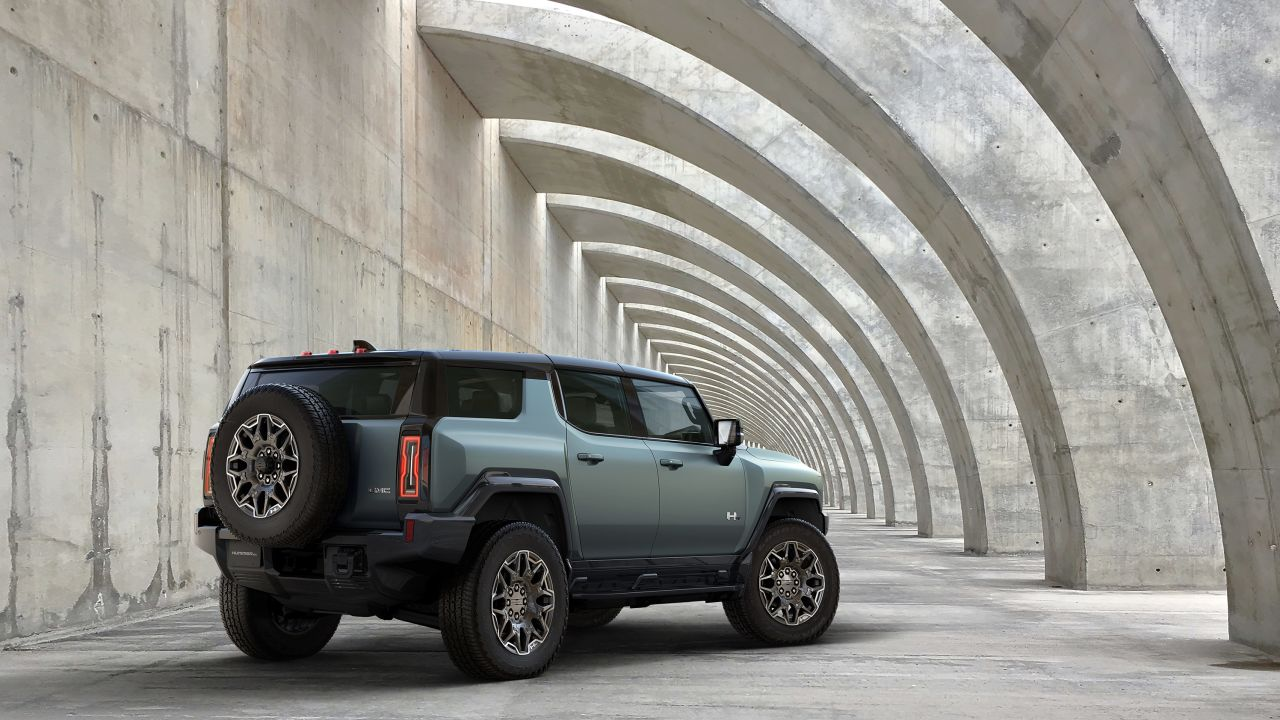car: (182, 334, 847, 685)
